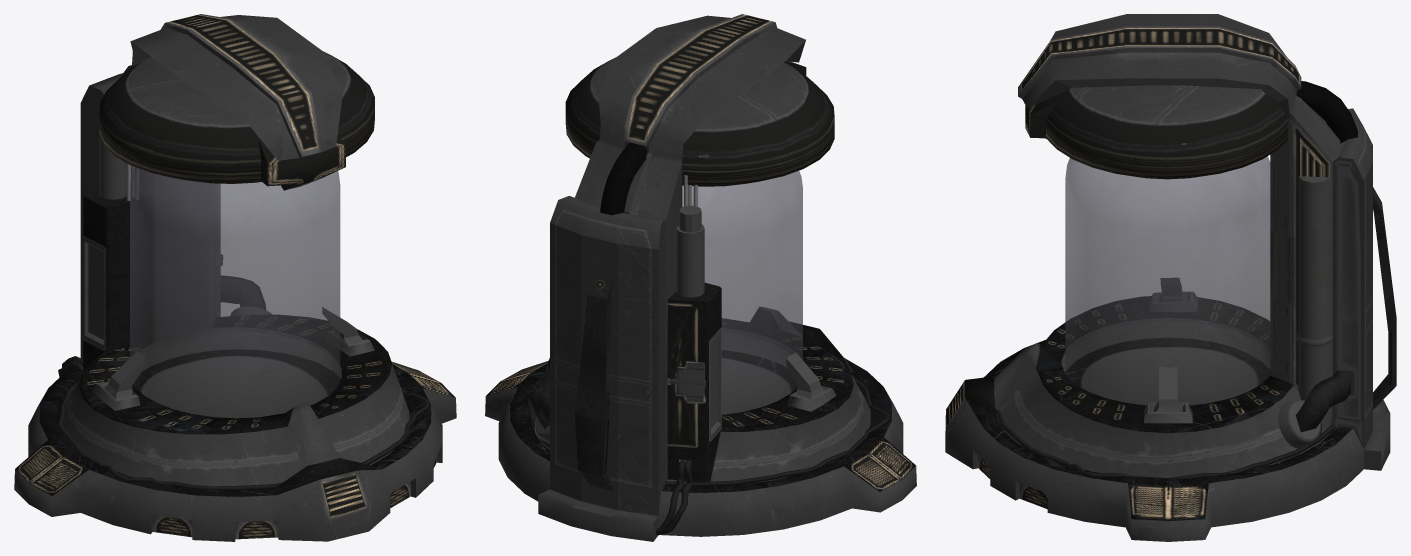
The picture shows the model from 3 angles, left to right: view 1: azimuth 30°, elevation 25°; view 2: azimuth 150°, elevation 25°; view 3: azimuth 270°, elevation 25°; orthographic projection. The views are drawn at different scales.
Visible parts, largest first — view 1: Capsule:Mesh; view 2: Capsule:Mesh; view 3: Capsule:Mesh.
Part boxes in pixels (x1,y1,x2,y2): Capsule:Mesh: (14, 14, 456, 541); Capsule:Mesh: (485, 14, 916, 541); Capsule:Mesh: (945, 14, 1396, 541).
Size of the model in its own units: 19.24 by 18.54 by 18.42.
Materials: 2 (2 with a texture image).
